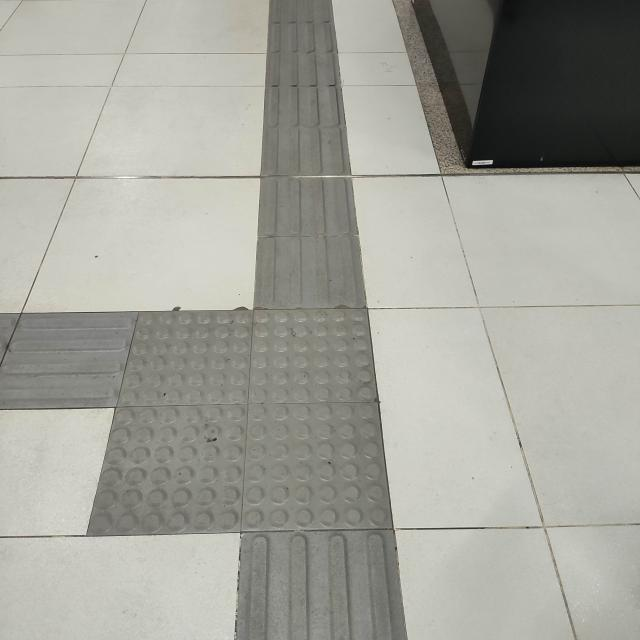lurus: (245, 0, 370, 326)
